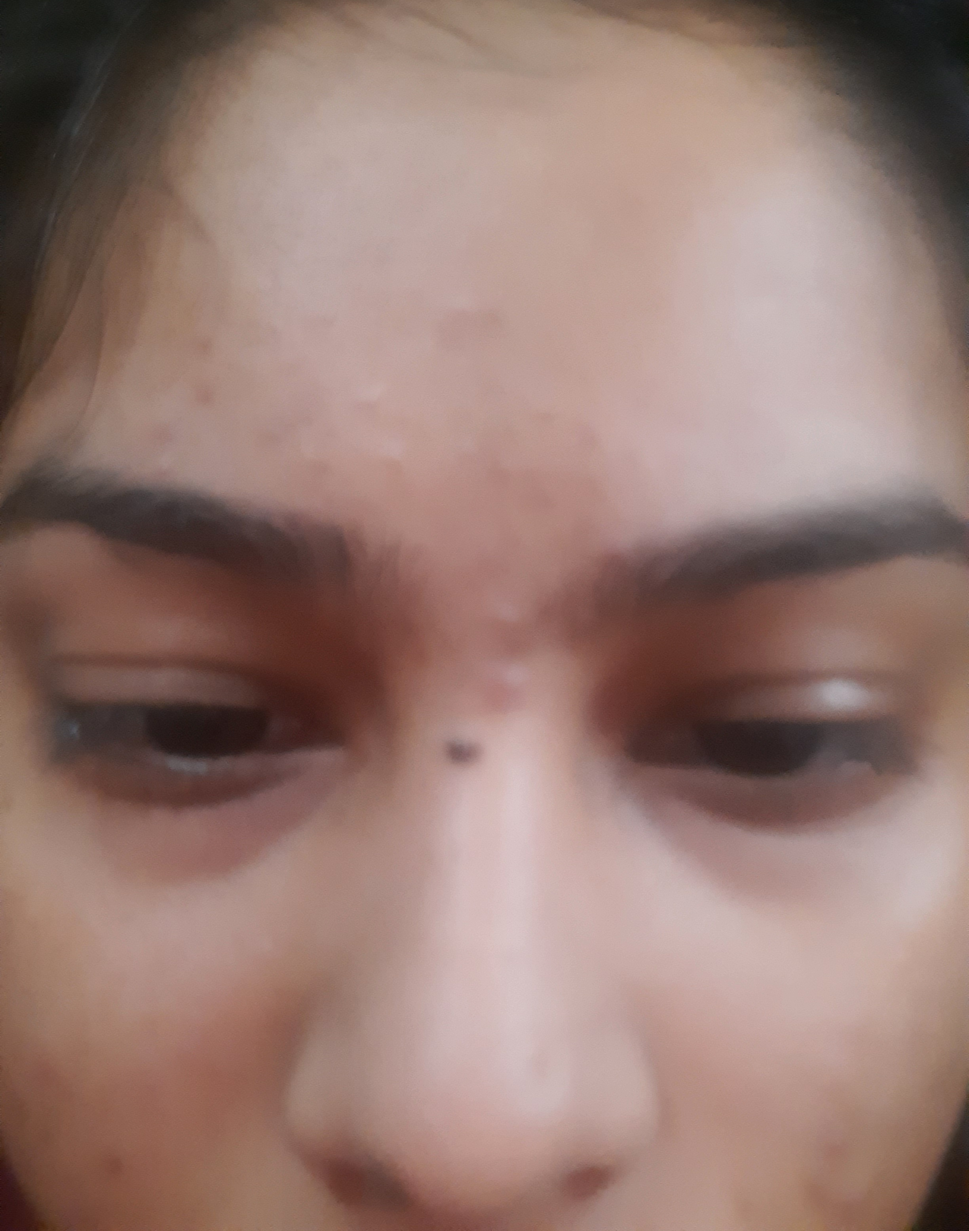papule: (483, 640, 544, 725), (489, 575, 533, 648), (340, 384, 391, 424)
